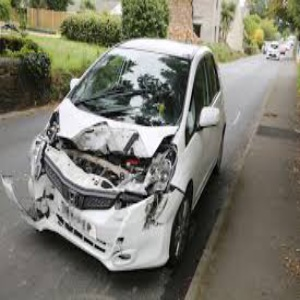bonnet: (60, 111, 158, 164)
bumper: (5, 173, 161, 275)
